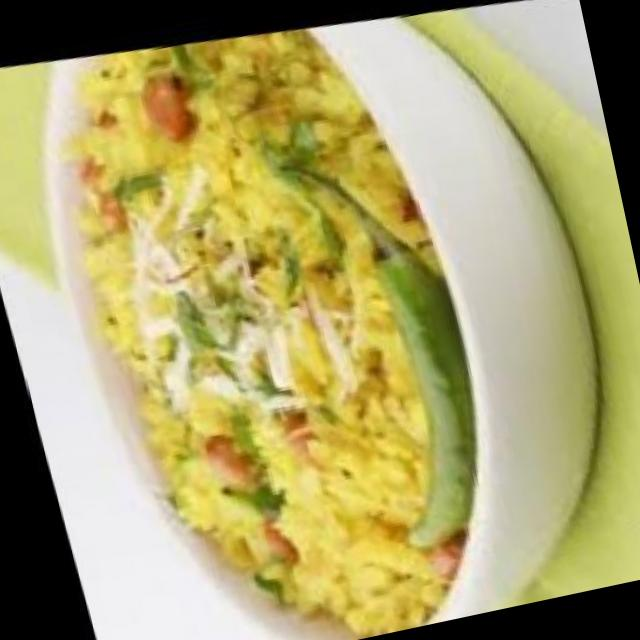poha: (26, 0, 525, 640)
